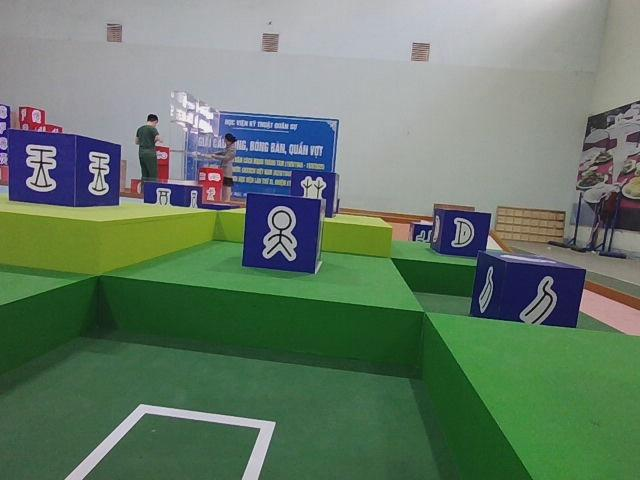R2 Real Blue: (473, 250, 589, 328), (8, 130, 121, 209), (243, 192, 327, 276), (430, 207, 490, 258), (289, 168, 337, 216), (142, 183, 202, 209)
